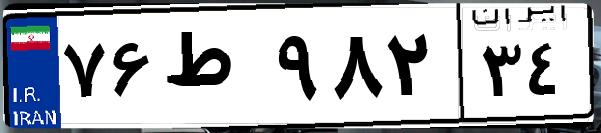2: (385, 28, 445, 110)
3: (475, 38, 525, 113)
4: (525, 38, 570, 115)
6: (110, 28, 158, 98)
7: (57, 26, 110, 100)
8: (330, 28, 385, 110)
9: (270, 28, 330, 110)
ط: (158, 20, 270, 120)
